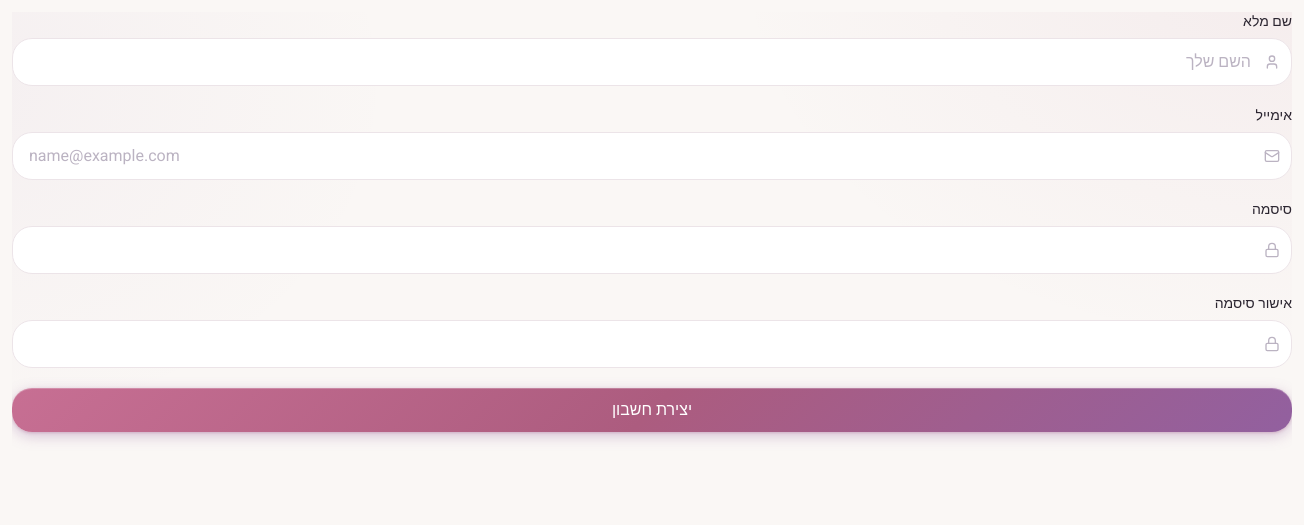
Test: SignupForm › renders a general form error and clears it after any edit
Click the button "יצירת חשבון": {"x": 652, "y": 410} [12,388,1292,432]
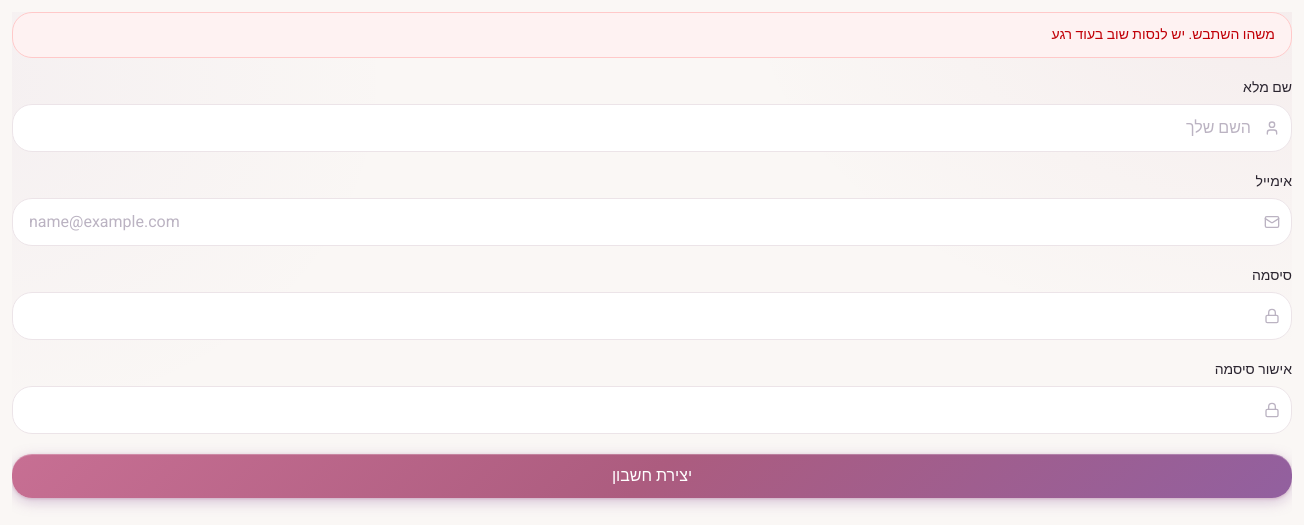
Check: the text "משהו השתבש. יש לנסות שוב בעוד רגע" is shown, box [12,12,1292,58]
In the field labelled "שם מלא": {"x": 652, "y": 128} [12,104,1292,152], type "x"
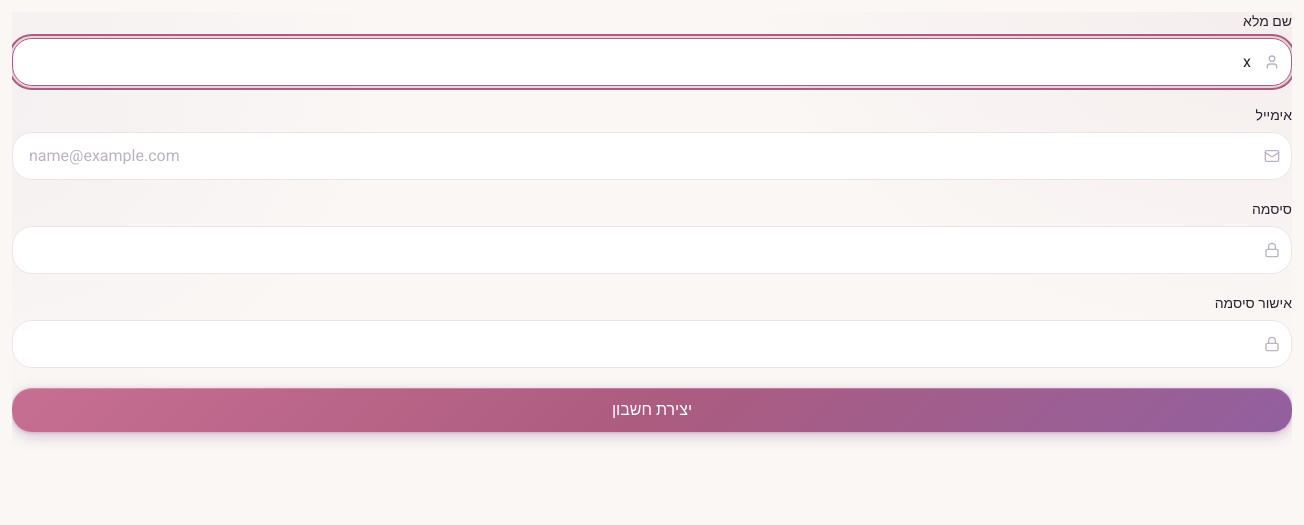
Check: the text "משהו השתבש. יש לנסות שוב בעוד רגע" is gone
